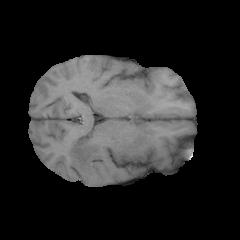glioma: (66, 134, 100, 176)
